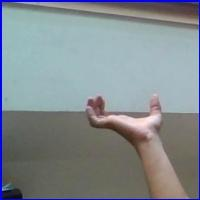space: (82, 85, 175, 157)
